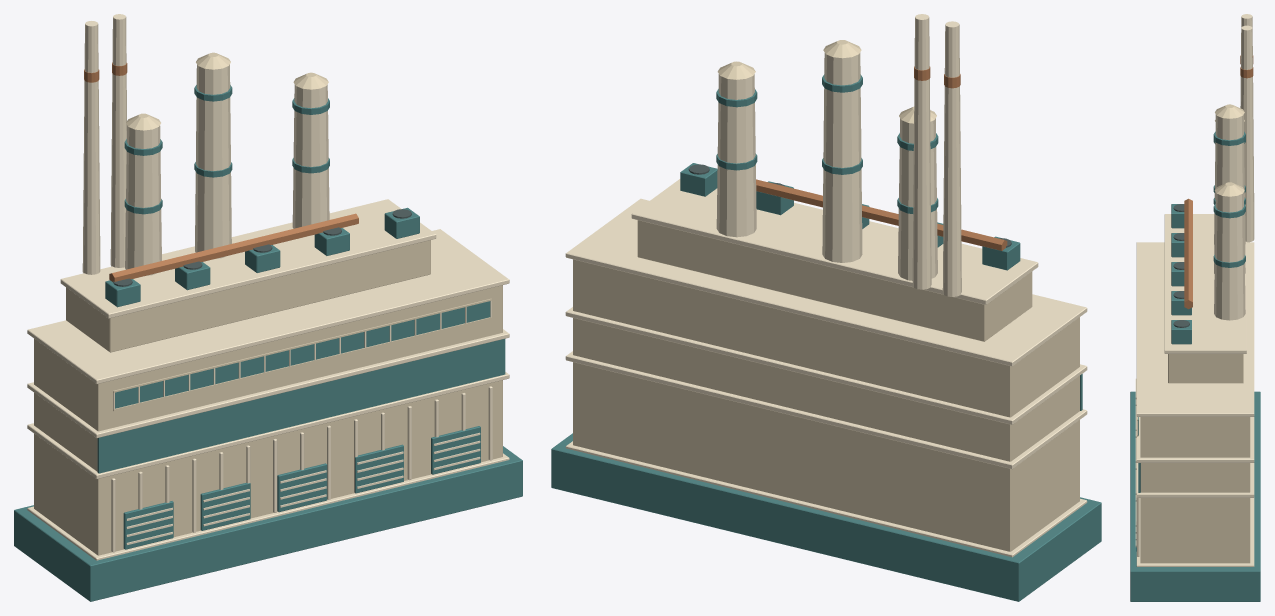
File: hsc3_fab_hall.glb
3 views of the same model, side by side, from view 1: azimuth 30°, elevation 25°; view 2: azimuth 150°, elevation 25°; view 3: azimuth 270°, elevation 25° (orthographic). The views are drawn at different scales.
Visible parts, largest first — view 1: hsc3_fab_hall__hsc3-pale-trim, hsc3_fab_hall__hsc3-cream-enamel, hsc3_fab_hall__hsc3-deep-teal, hsc3_fab_hall__hsc3-roasted-copper, hsc3_fab_hall__hsc3-charcoal-metal; view 2: hsc3_fab_hall__hsc3-cream-enamel, hsc3_fab_hall__hsc3-pale-trim, hsc3_fab_hall__hsc3-deep-teal, hsc3_fab_hall__hsc3-roasted-copper; view 3: hsc3_fab_hall__hsc3-pale-trim, hsc3_fab_hall__hsc3-cream-enamel, hsc3_fab_hall__hsc3-deep-teal, hsc3_fab_hall__hsc3-roasted-copper, hsc3_fab_hall__hsc3-charcoal-metal.
Boxes of the visible parts, bbox=[...] form: hsc3_fab_hall__hsc3-pale-trim: bbox=[27, 14, 509, 560]; hsc3_fab_hall__hsc3-cream-enamel: bbox=[34, 52, 502, 555]; hsc3_fab_hall__hsc3-deep-teal: bbox=[14, 85, 522, 601]; hsc3_fab_hall__hsc3-roasted-copper: bbox=[84, 62, 358, 281]; hsc3_fab_hall__hsc3-charcoal-metal: bbox=[113, 209, 411, 286]; hsc3_fab_hall__hsc3-cream-enamel: bbox=[573, 40, 1079, 551]; hsc3_fab_hall__hsc3-pale-trim: bbox=[565, 14, 1087, 557]; hsc3_fab_hall__hsc3-deep-teal: bbox=[551, 74, 1101, 601]; hsc3_fab_hall__hsc3-roasted-copper: bbox=[756, 66, 1007, 250]; hsc3_fab_hall__hsc3-pale-trim: bbox=[1135, 14, 1254, 566]; hsc3_fab_hall__hsc3-cream-enamel: bbox=[1137, 104, 1250, 563]; hsc3_fab_hall__hsc3-deep-teal: bbox=[1130, 131, 1260, 601]; hsc3_fab_hall__hsc3-roasted-copper: bbox=[1184, 55, 1253, 309]; hsc3_fab_hall__hsc3-charcoal-metal: bbox=[1173, 204, 1189, 327].
Size of the model in its own units: 62 by 70 by 19.
